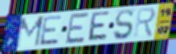E: (64, 12, 91, 46), (38, 14, 64, 47), (85, 10, 111, 42)
M: (15, 15, 46, 50)
R: (133, 7, 157, 39)
S: (112, 8, 135, 41)
